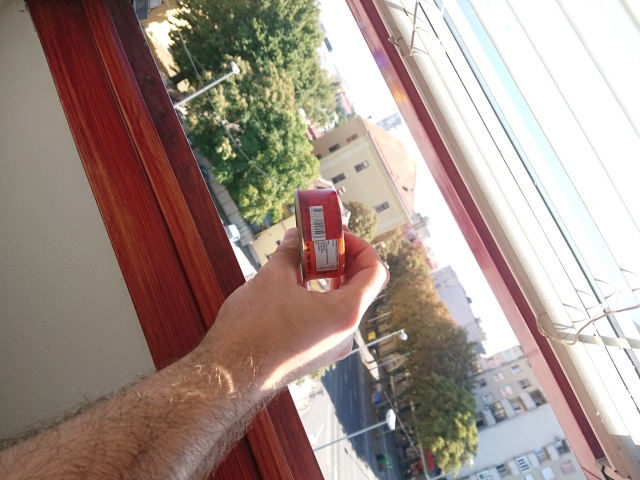Gavrilovic Pork Liver Pate 100g: (291, 185, 347, 286)
